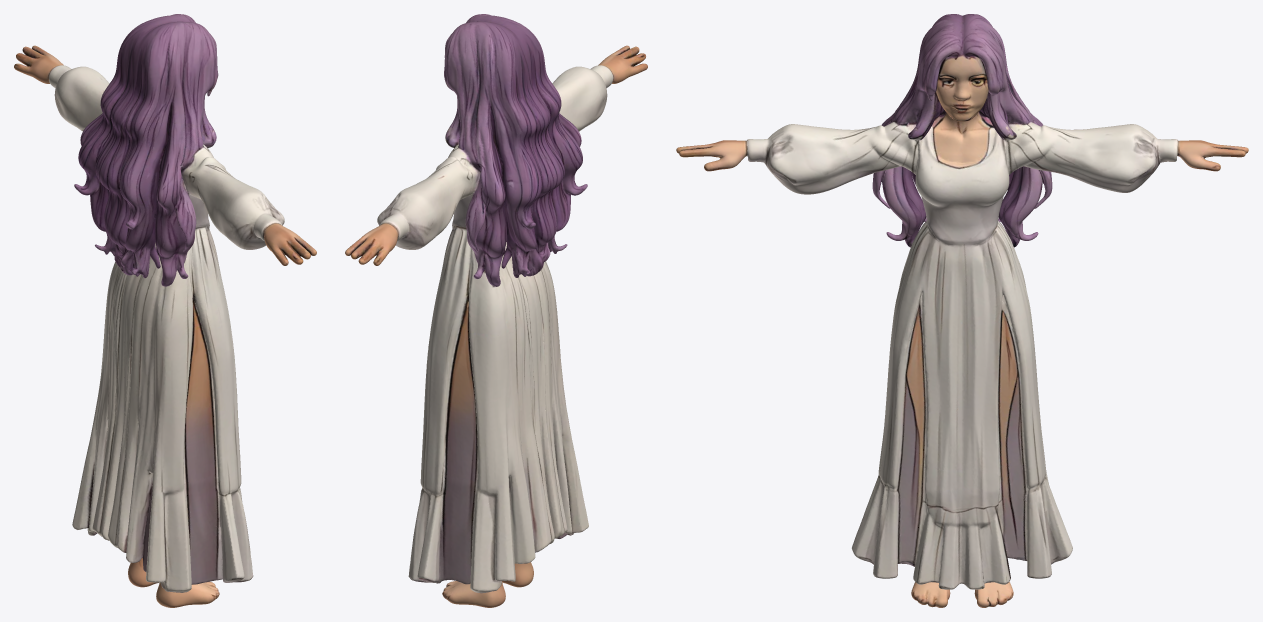
Rendered from female-raw-copy.glb.
3 views of the same model, side by side, from view 1: azimuth 30°, elevation 25°; view 2: azimuth 150°, elevation 25°; view 3: azimuth 270°, elevation 25° (orthographic).
Parts seen in each view (by area): view 1: tripo_node_bc823922-a818-47de-bd45-c75552e11e0f; view 2: tripo_node_bc823922-a818-47de-bd45-c75552e11e0f; view 3: tripo_node_bc823922-a818-47de-bd45-c75552e11e0f.
Part boxes in pixels (<box>): tripo_node_bc823922-a818-47de-bd45-c75552e11e0f: <box>14,14,316,607</box>; tripo_node_bc823922-a818-47de-bd45-c75552e11e0f: <box>345,14,647,607</box>; tripo_node_bc823922-a818-47de-bd45-c75552e11e0f: <box>676,14,1248,607</box>.
Bounding box in the file's own units: 0.218 × 1 × 0.9033.
Materials: 1 (1 with a texture image).
